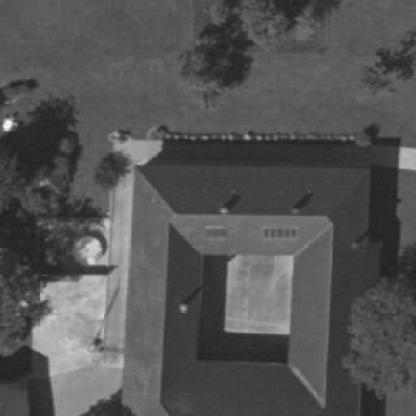solar-pv-panel: (263, 226, 300, 240), (205, 226, 227, 240)
